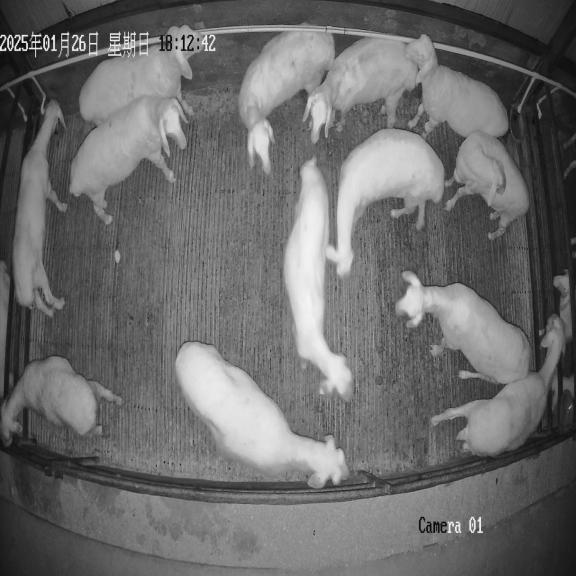drinking: (12, 100, 67, 317)
stand: (175, 342, 349, 488), (431, 316, 564, 456), (326, 128, 444, 277), (283, 158, 352, 401), (396, 271, 531, 384), (70, 96, 187, 224), (238, 29, 335, 173), (79, 25, 204, 126), (303, 37, 418, 143), (0, 356, 121, 446), (406, 34, 508, 138), (445, 131, 529, 239)
